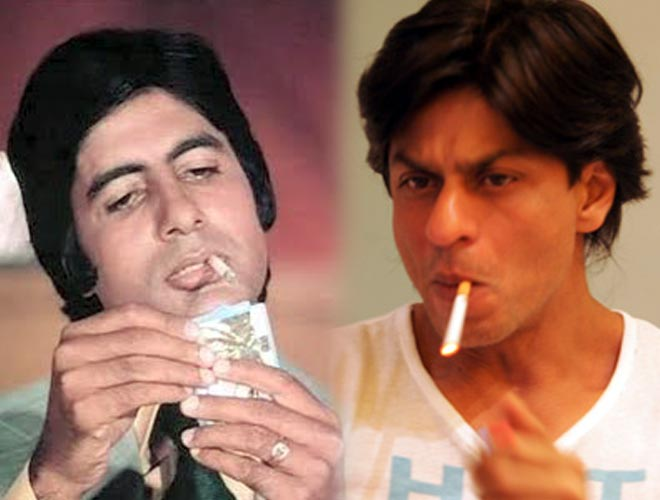cigarette: (436, 278, 477, 358), (207, 254, 239, 282)
